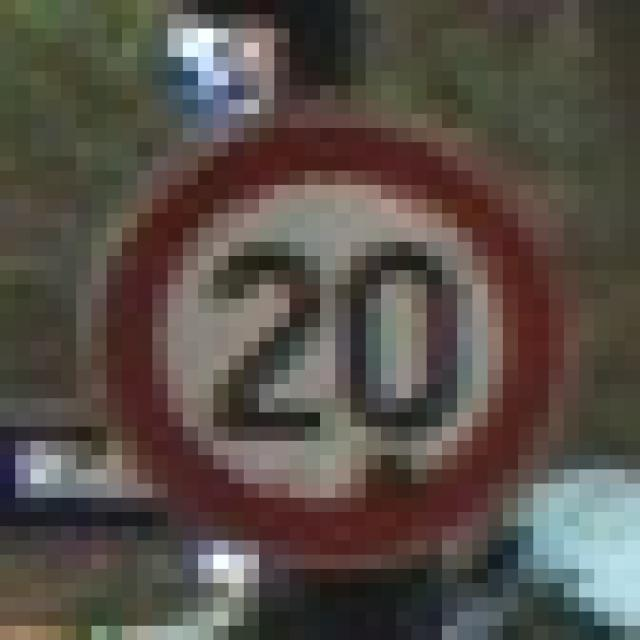Speed Limit -20-: (76, 71, 564, 555)
